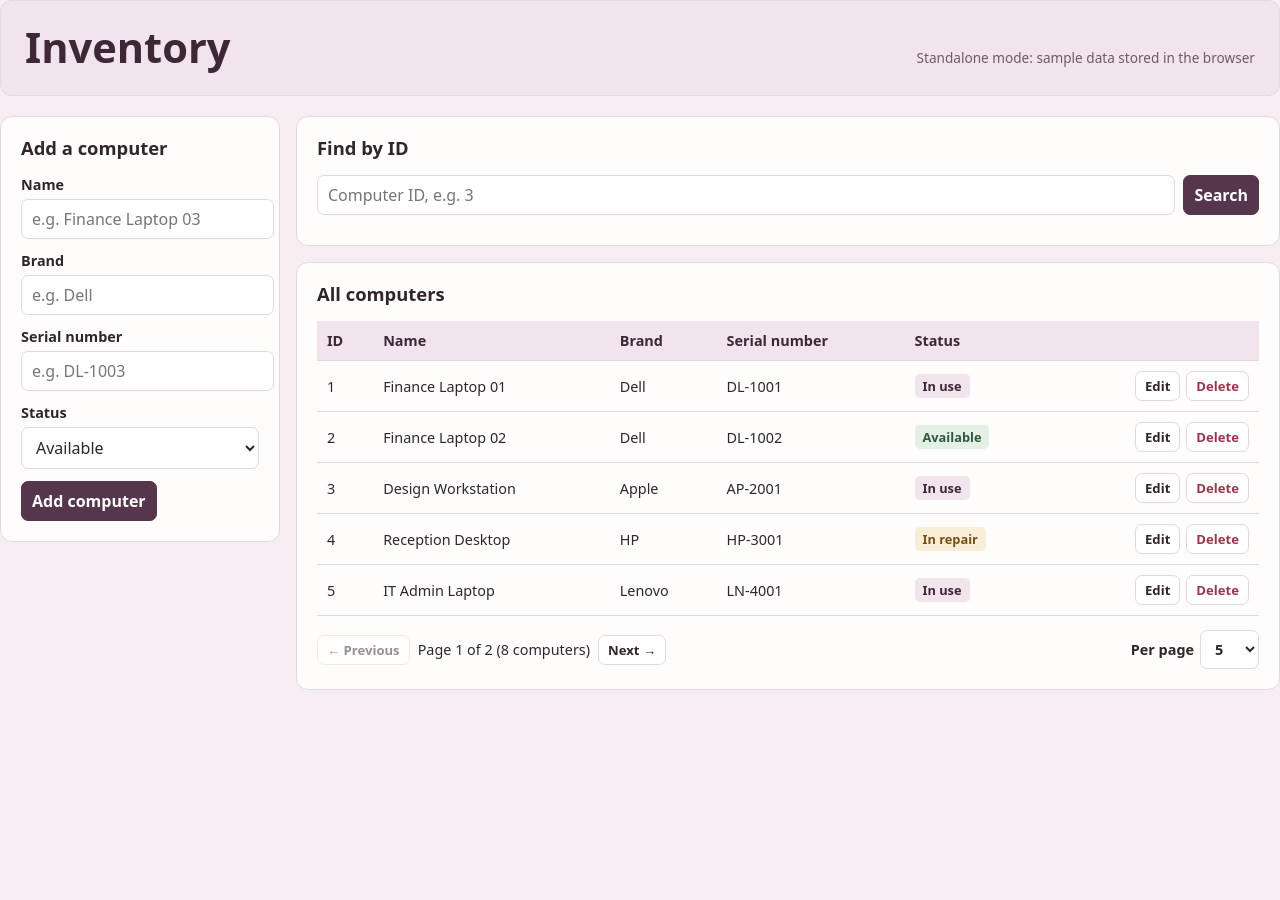
Test case: Inventory page (standalone mode) › finds a computer by ID
The width and height of the screenshot is (1280, 900).
Type "4" into the field labelled "Computer ID". click: (746, 195)
box: [317, 175, 1175, 215]
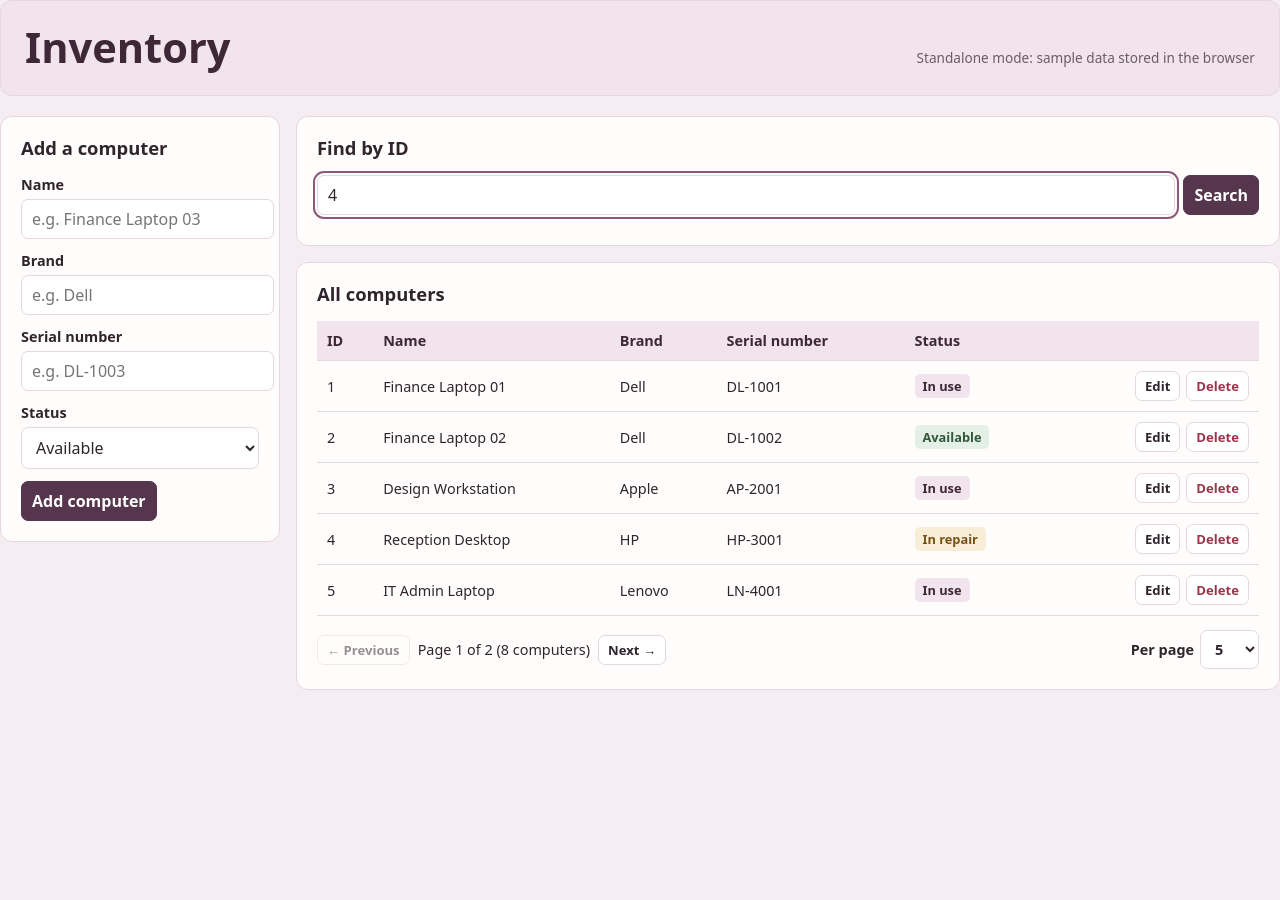
Click the button "Search". click: click(1221, 195)
box: [1183, 175, 1259, 215]
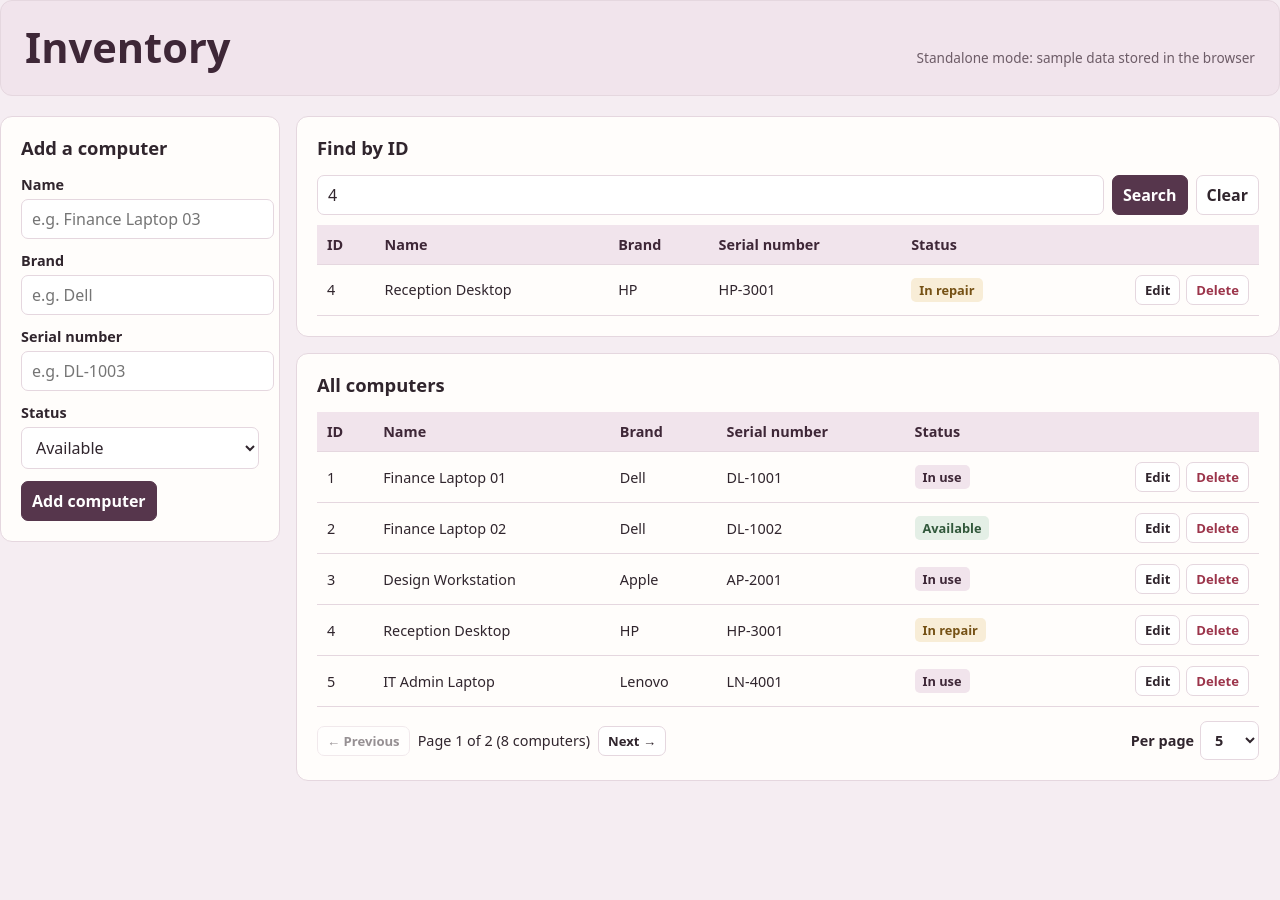
Check: the table named "Search result" shows "Reception Desktop", box [384, 280, 512, 300]
Check: the table named "Search result" shows "HP-3001", box [718, 280, 775, 300]
